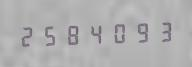eight: (61, 21, 82, 47)
five: (39, 21, 60, 48)
four: (83, 20, 104, 46)
nine: (127, 18, 148, 45)
three: (149, 18, 170, 44)
two: (17, 22, 38, 48)
zero: (105, 19, 126, 45)
